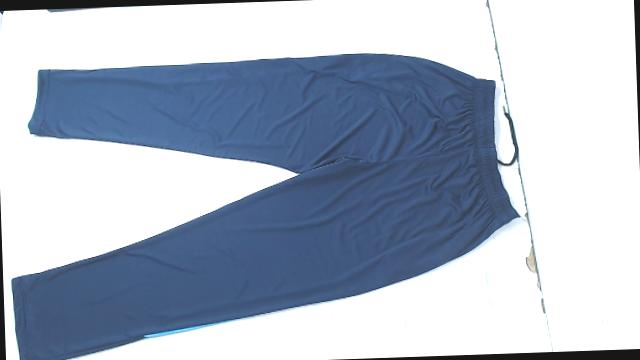new-garment: (13, 54, 518, 360)
